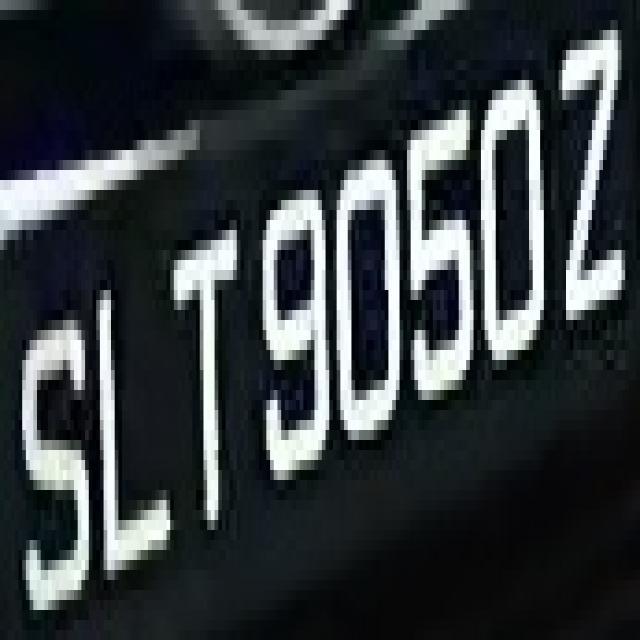0: (326, 140, 410, 470), (474, 80, 558, 370)
5: (407, 80, 488, 440)
9: (259, 180, 333, 500)
L: (92, 220, 174, 600)
S: (15, 260, 92, 640)
T: (170, 220, 248, 560)
Z: (544, 30, 632, 340)
